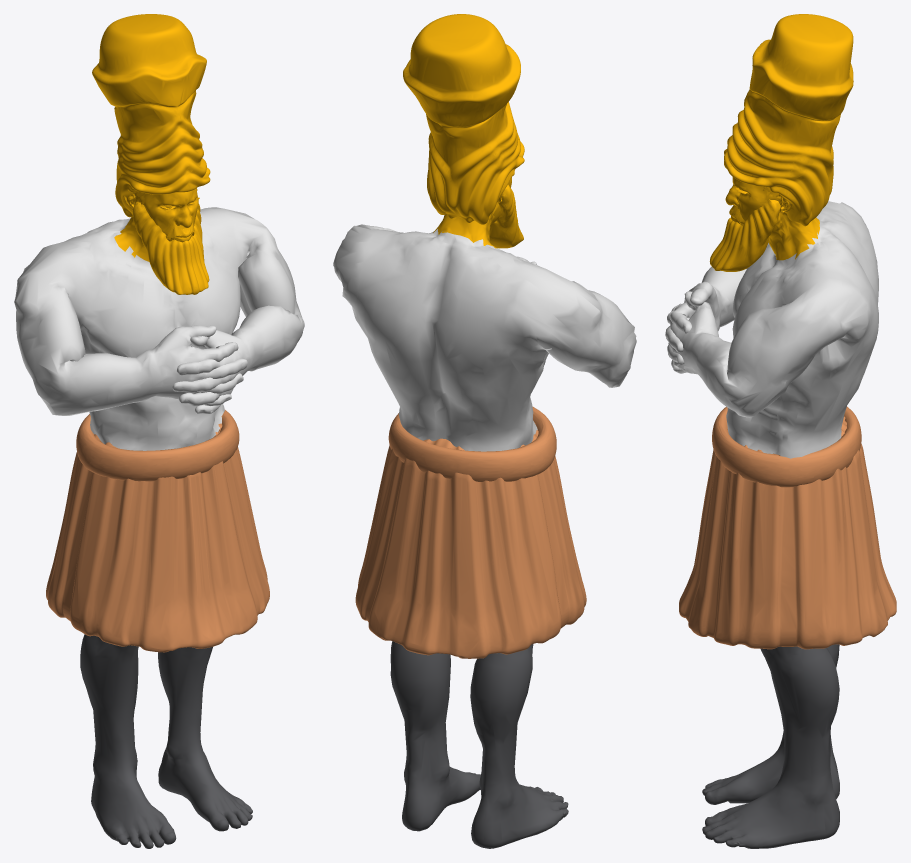
The model's file is export-colored.glb.
3 renders of one model, left to right at view 1: azimuth 30°, elevation 25°; view 2: azimuth 150°, elevation 25°; view 3: azimuth 270°, elevation 25°, orthographic. The views are drawn at different scales.
Visible parts, largest first — view 1: Torso, Dress, Head, Legs; view 2: Torso, Dress, Head, Legs; view 3: Dress, Torso, Head, Legs.
Boxes of the visible parts, x1,y1,x2,y2 form: Torso: [14, 207, 304, 450]; Dress: [46, 410, 269, 652]; Head: [92, 14, 210, 294]; Legs: [80, 634, 252, 848]; Torso: [333, 224, 636, 451]; Dress: [355, 406, 586, 658]; Head: [403, 14, 524, 248]; Legs: [390, 641, 568, 848]; Dress: [679, 406, 896, 649]; Torso: [665, 201, 878, 458]; Head: [709, 14, 853, 271]; Legs: [702, 644, 839, 848].
Size of the model in its own units: 11.17 by 31.69 by 8.35.
